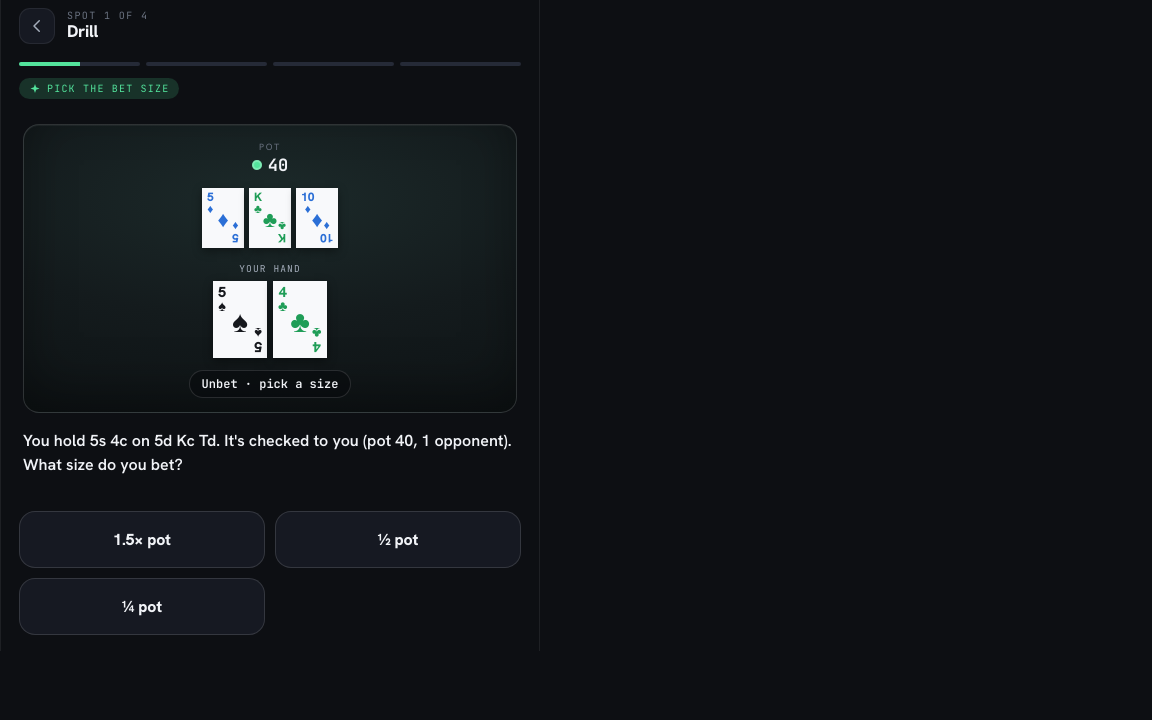
DrillSession — the loop › Escape advances the loop (a11y, mirroring the lesson player / coach drawer)
The image size is (1152, 720).
Click the button with test id "answer-0" at point(142, 539), box top-left (19, 510), bottom-right (265, 568)
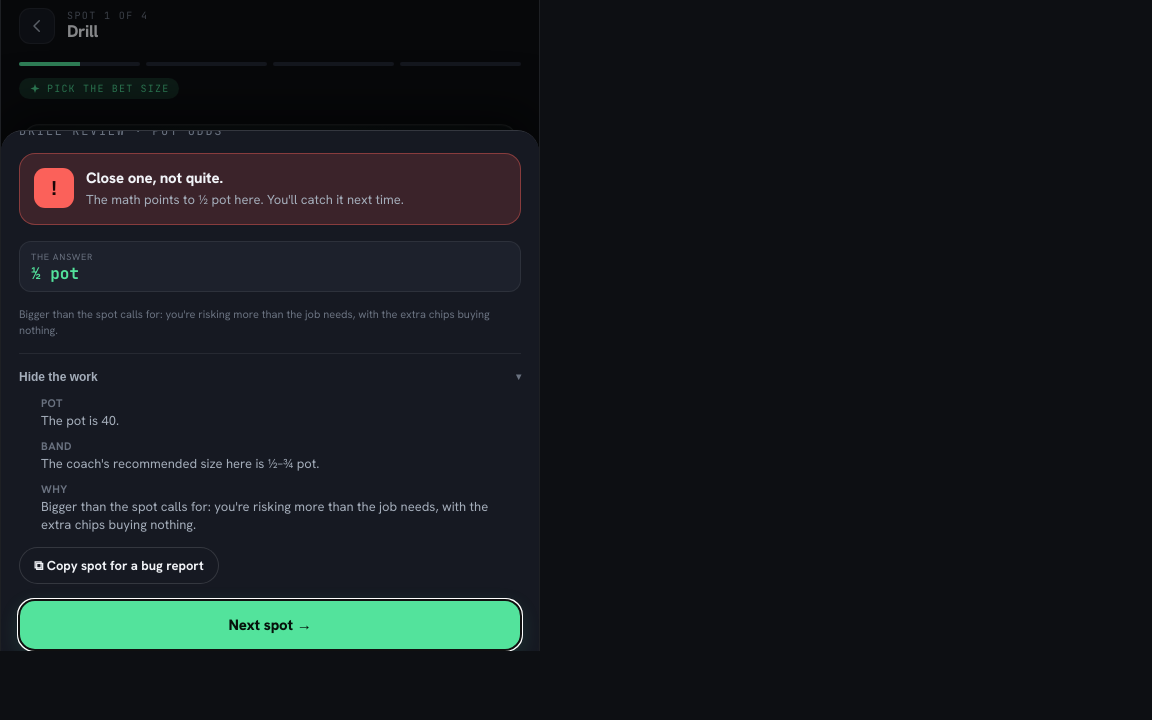
Press Escape
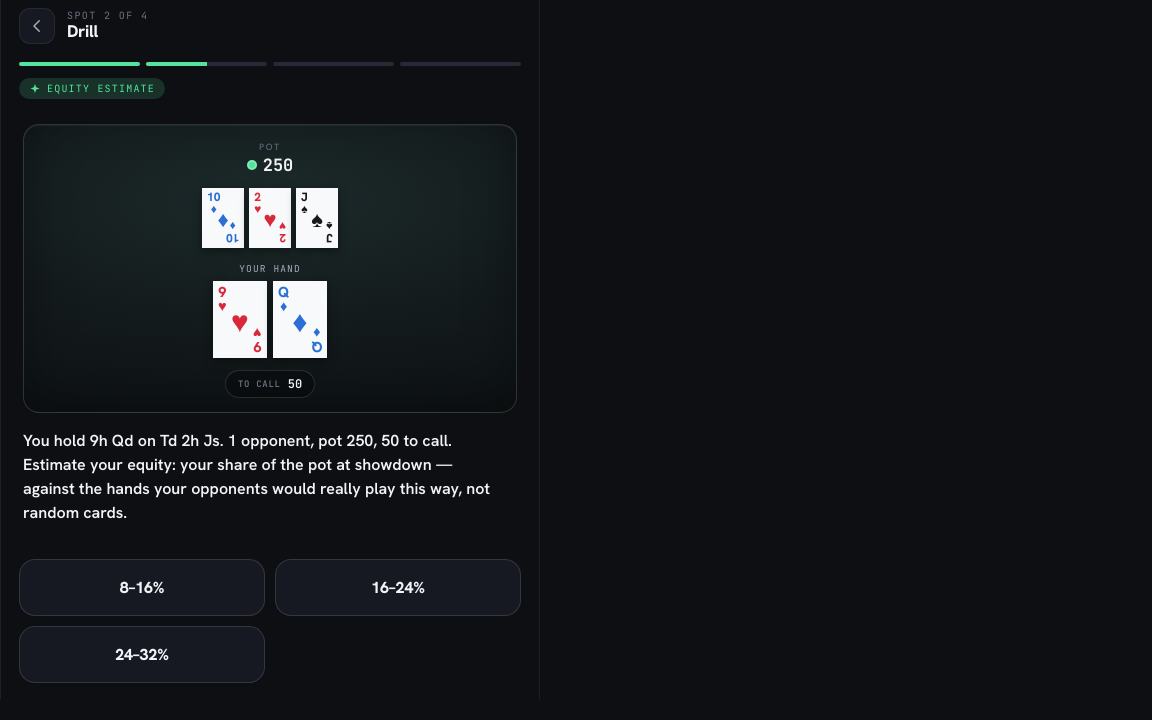
Expected: the dialog with test id "result-sheet" is gone
